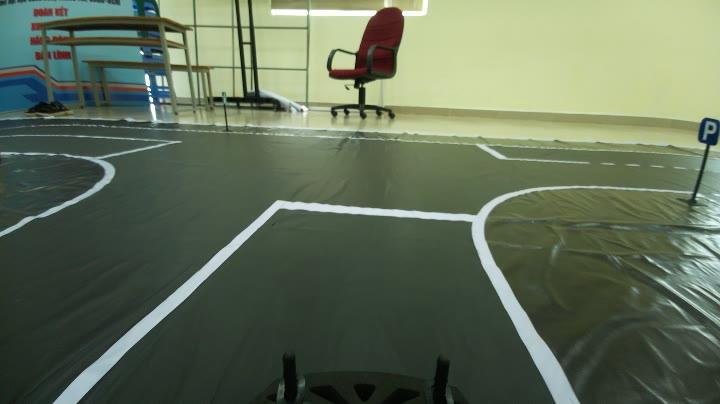parking: (696, 111, 720, 153)
